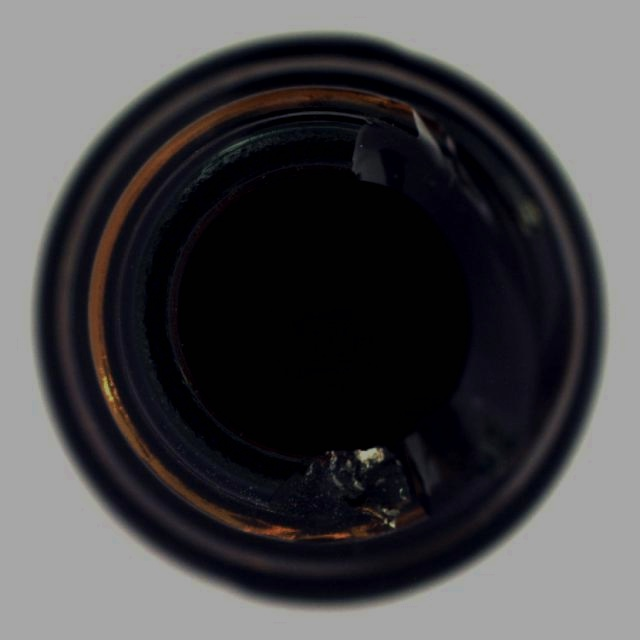bad-broken_large: (29, 32, 607, 613)
